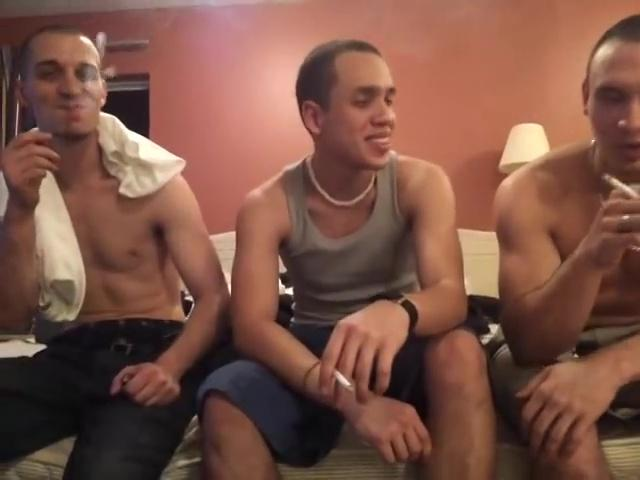cigarette: (603, 169, 640, 204), (333, 368, 354, 394)
